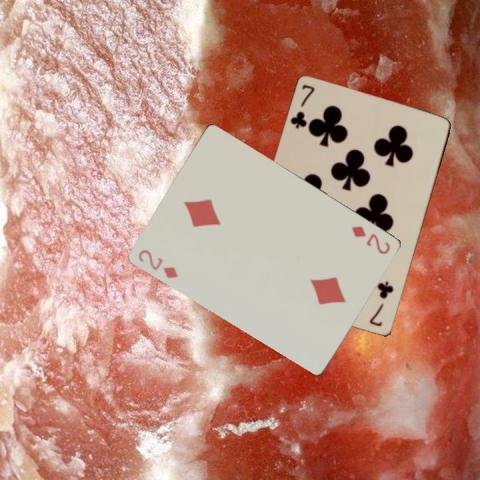2d: (135, 247, 179, 280), (348, 223, 391, 256)
7c: (287, 82, 317, 131), (367, 279, 395, 328)
